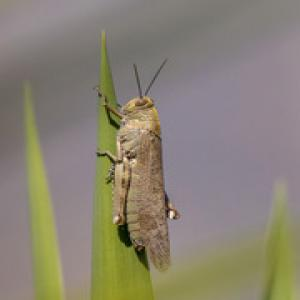locust: (91, 55, 219, 290)
